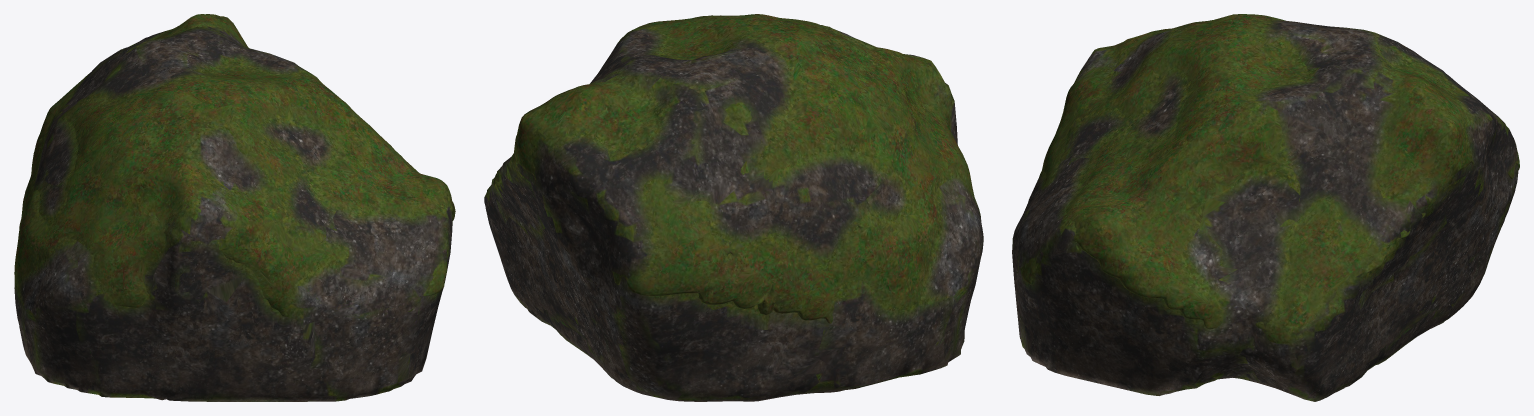
The model's file is mossy_rock.glb.
3 views of the same model, side by side, from view 1: azimuth 30°, elevation 25°; view 2: azimuth 150°, elevation 25°; view 3: azimuth 270°, elevation 25° (orthographic). The views are drawn at different scales.
Parts seen in each view (by area): view 1: Mossy Rock.006; view 2: Mossy Rock.006; view 3: Mossy Rock.006.
Boxes of the visible parts, x1,y1,x2,y2 form: Mossy Rock.006: (14,14,455,401); Mossy Rock.006: (484,14,983,401); Mossy Rock.006: (1012,14,1519,401).
Bounding box in the file's own units: 0.6556 × 0.4105 × 0.6796.
1 material, 1 textured.
